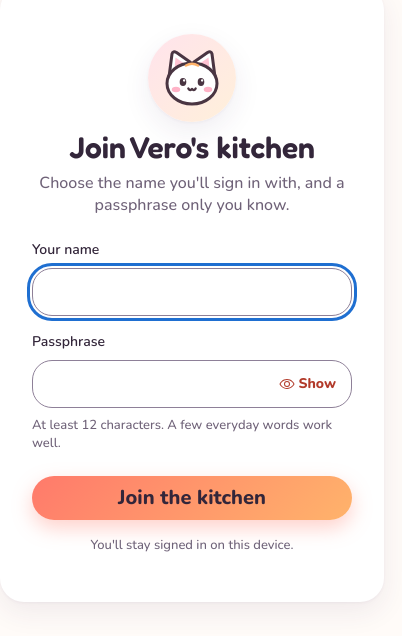
Test: /join/<token> › too short is caught before sending, with focus on the passphrase
This screenshot has width=402, height=636.
Type "Sam" into the field labelled "Your name" at (192, 292), box 32,268 -> 352,316
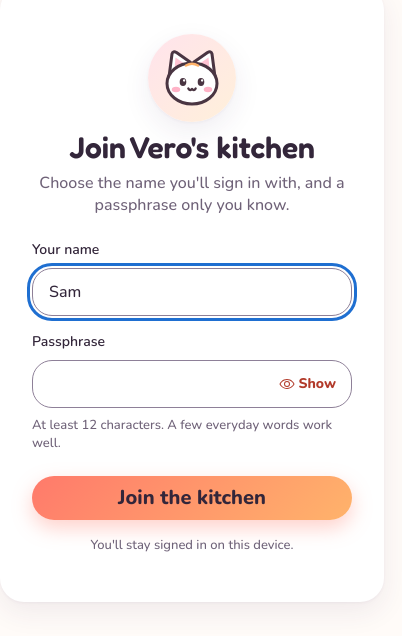
Type "short one" into the password field labelled "Passphrase" at (192, 384), box 32,360 -> 352,408
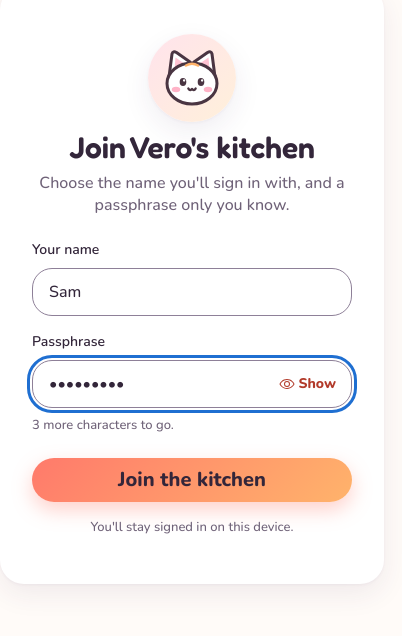
Click the button "Join the kitchen" at (192, 480), box 32,458 -> 352,502
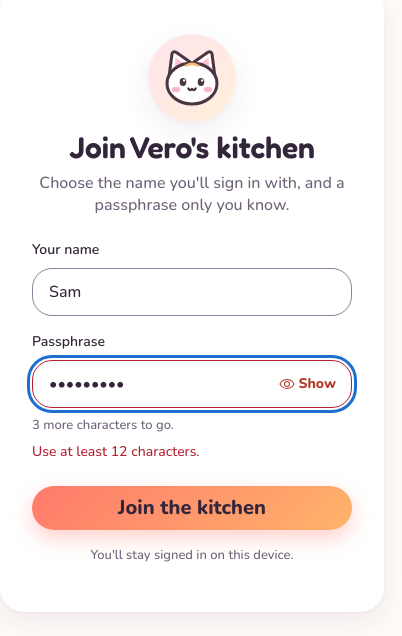
Expected: the message reads "Use at least 12 characters.", 32,442 -> 200,461
